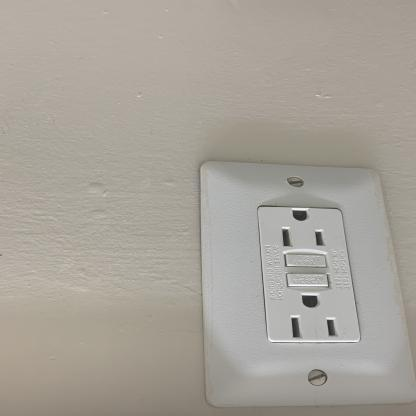OUTLET: (204, 162, 393, 408)
